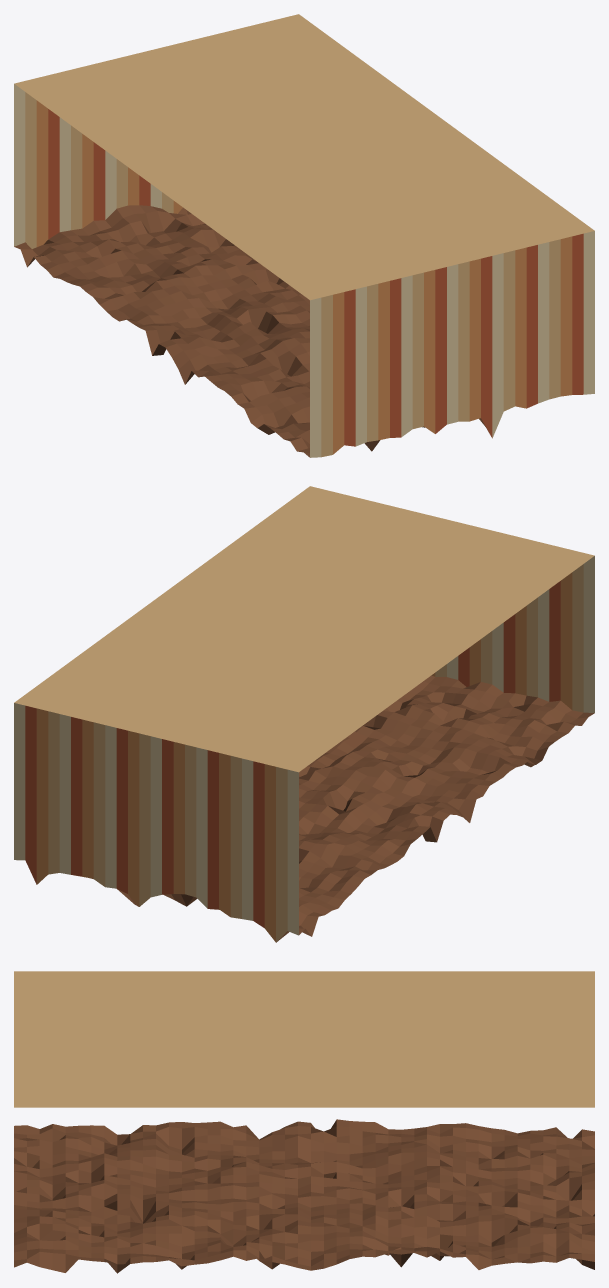
File: canyon_roof.glb
The picture shows the model from 3 angles, top to bottom: view 1: azimuth 30°, elevation 25°; view 2: azimuth 150°, elevation 25°; view 3: azimuth 270°, elevation 25°; orthographic projection.
Parts seen in each view (by area): view 1: canyon_roof; view 2: canyon_roof; view 3: canyon_roof.
Boxes of the visible parts, x1=… form: canyon_roof: x1=14, y1=14, x2=594, y2=457; canyon_roof: x1=14, y1=486, x2=594, y2=942; canyon_roof: x1=14, y1=971, x2=594, y2=1273.
Size of the model in its own units: 100 by 62.17 by 180.
